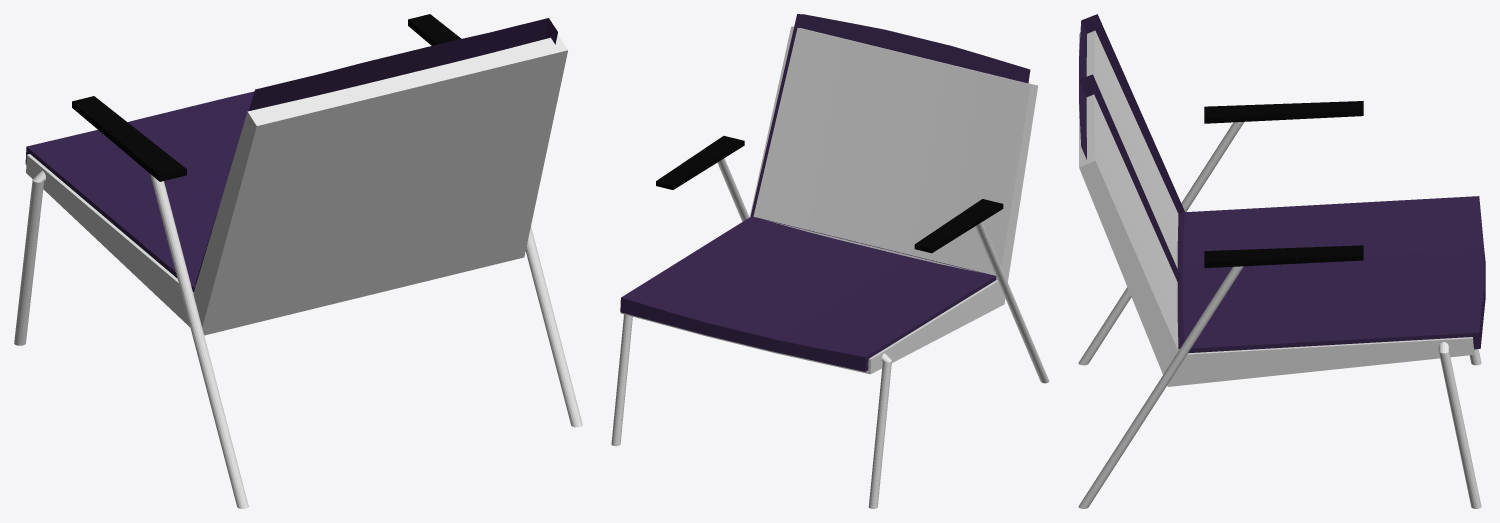
The model's file is flux_0_lounge_chair_block_type.fbx.
The picture shows the model from 3 angles, left to right: view 1: azimuth 30°, elevation 25°; view 2: azimuth 150°, elevation 25°; view 3: azimuth 270°, elevation 25°; orthographic projection. The views are drawn at different scales.
Visible parts, largest first — view 1: Cube.002, Cube, Cube.003; view 2: Cube.002, Cube, Cube.003; view 3: Cube, Cube.002, Cube.003.
Boxes of the visible parts, x1=… form: Cube.002: x1=14, y1=35, x2=582, y2=508; Cube: x1=25, y1=18, x2=557, y2=292; Cube.003: x1=72, y1=14, x2=461, y2=181; Cube.002: x1=611, y1=26, x2=1049, y2=508; Cube: x1=620, y1=14, x2=1030, y2=371; Cube.003: x1=656, y1=136, x2=1003, y2=253; Cube: x1=1079, y1=14, x2=1485, y2=353; Cube.002: x1=1078, y1=30, x2=1481, y2=508; Cube.003: x1=1204, y1=101, x2=1363, y2=268.
Bounding box in the file's own units: 276 × 298 × 304.
